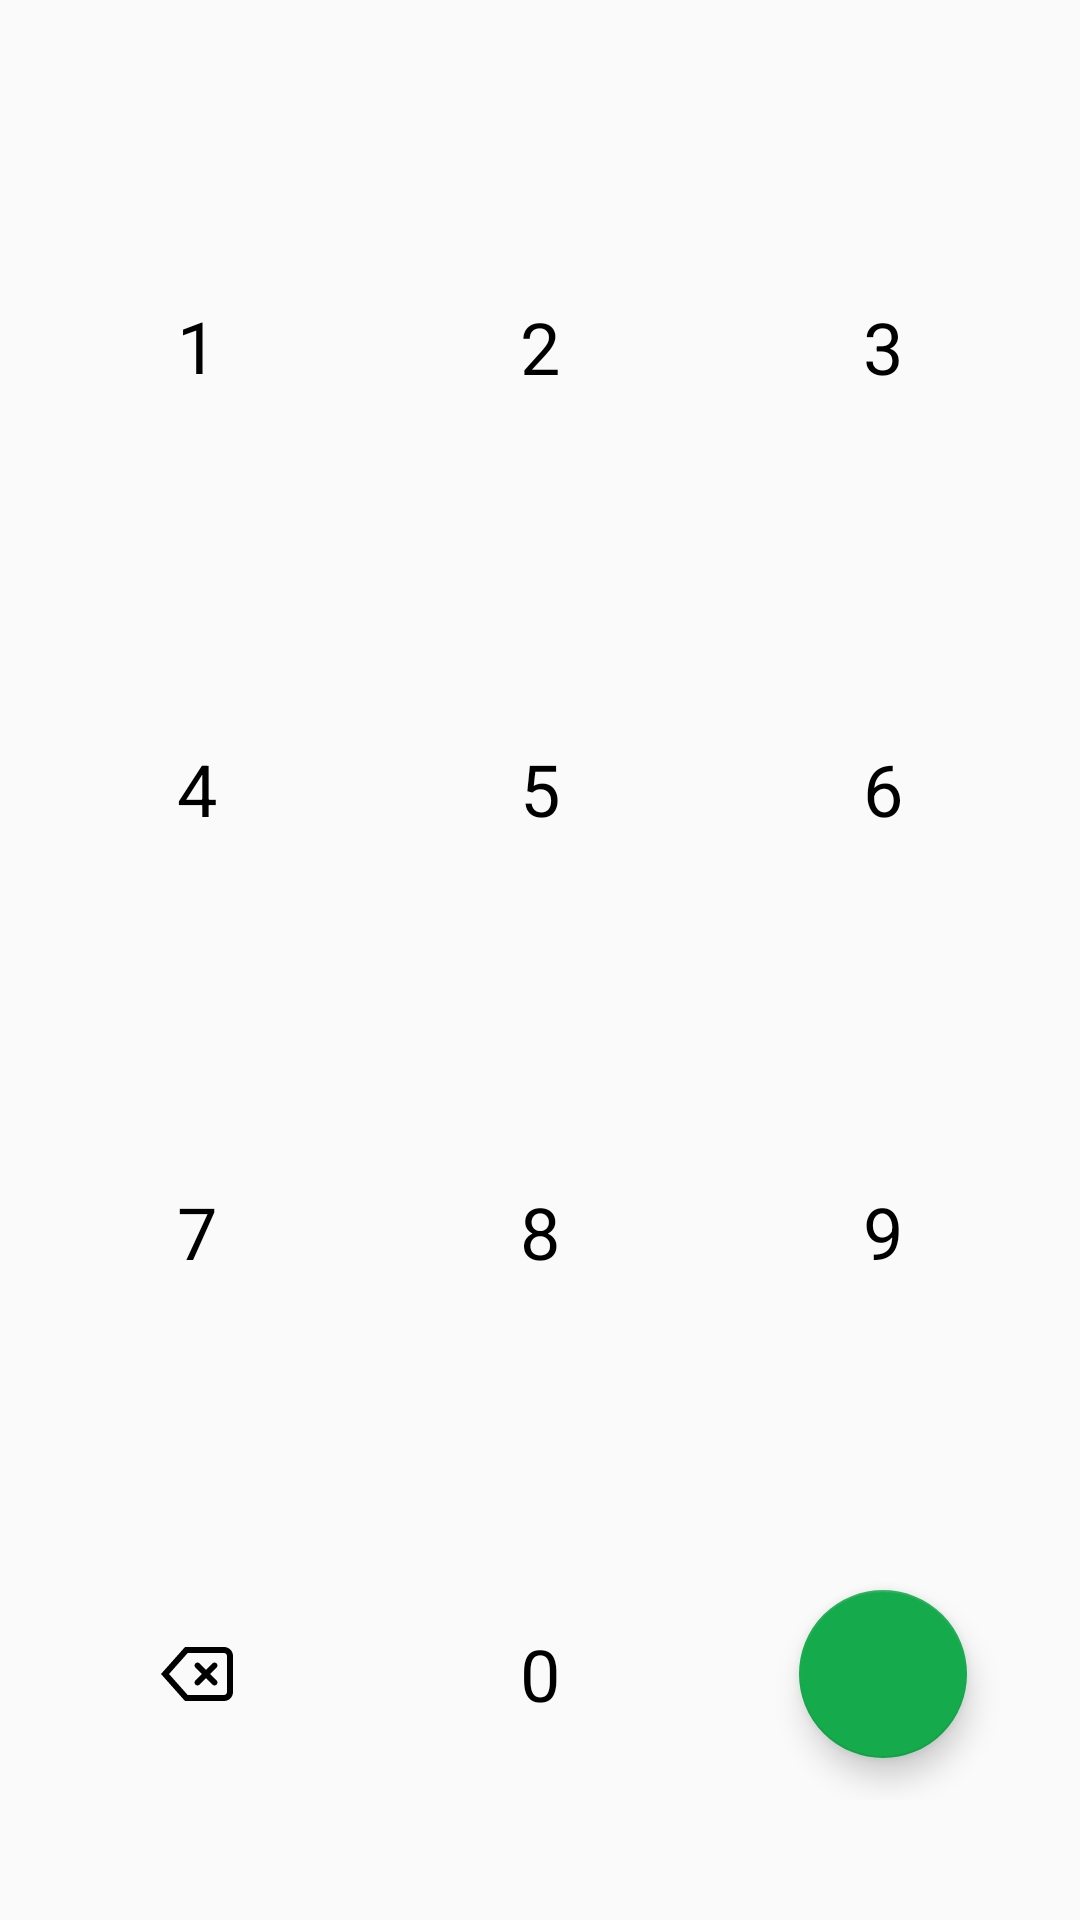

Locate icon controls on the screen. Image size 1080 x 1920, boxes as (x1, y1, x2, y2).
delete: (161, 1647, 233, 1701)
